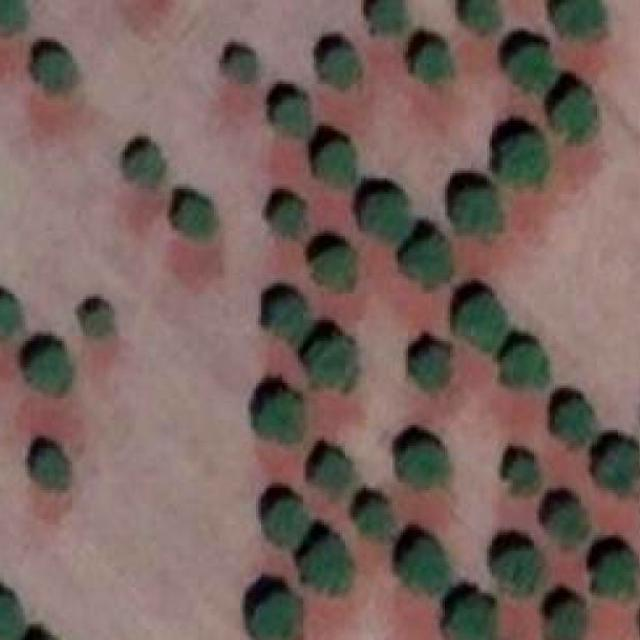Tree: (455, 297, 506, 352), (304, 538, 351, 596), (494, 136, 545, 187), (553, 89, 598, 145), (306, 338, 354, 388), (403, 238, 450, 289), (452, 189, 503, 236), (492, 549, 545, 594), (403, 538, 448, 591), (361, 194, 411, 241), (264, 498, 310, 549), (251, 595, 301, 640), (256, 394, 303, 441), (505, 48, 555, 92), (26, 349, 72, 396), (445, 598, 495, 640), (398, 440, 448, 482), (314, 246, 356, 294), (552, 399, 592, 449), (555, 0, 605, 40), (595, 446, 640, 488), (502, 346, 548, 386), (595, 551, 637, 593), (316, 142, 356, 186), (546, 506, 586, 548), (272, 299, 312, 341), (310, 453, 350, 493), (544, 601, 584, 640), (36, 444, 70, 489), (36, 51, 72, 92), (417, 42, 453, 82), (413, 348, 448, 388), (277, 96, 312, 136), (177, 199, 214, 236), (128, 147, 165, 183), (359, 504, 395, 540), (322, 47, 357, 84), (462, 0, 502, 31), (274, 197, 303, 234), (369, 0, 403, 31), (0, 595, 22, 640), (508, 456, 537, 488), (227, 52, 256, 82), (0, 297, 20, 339), (0, 0, 22, 34), (86, 310, 112, 334)
